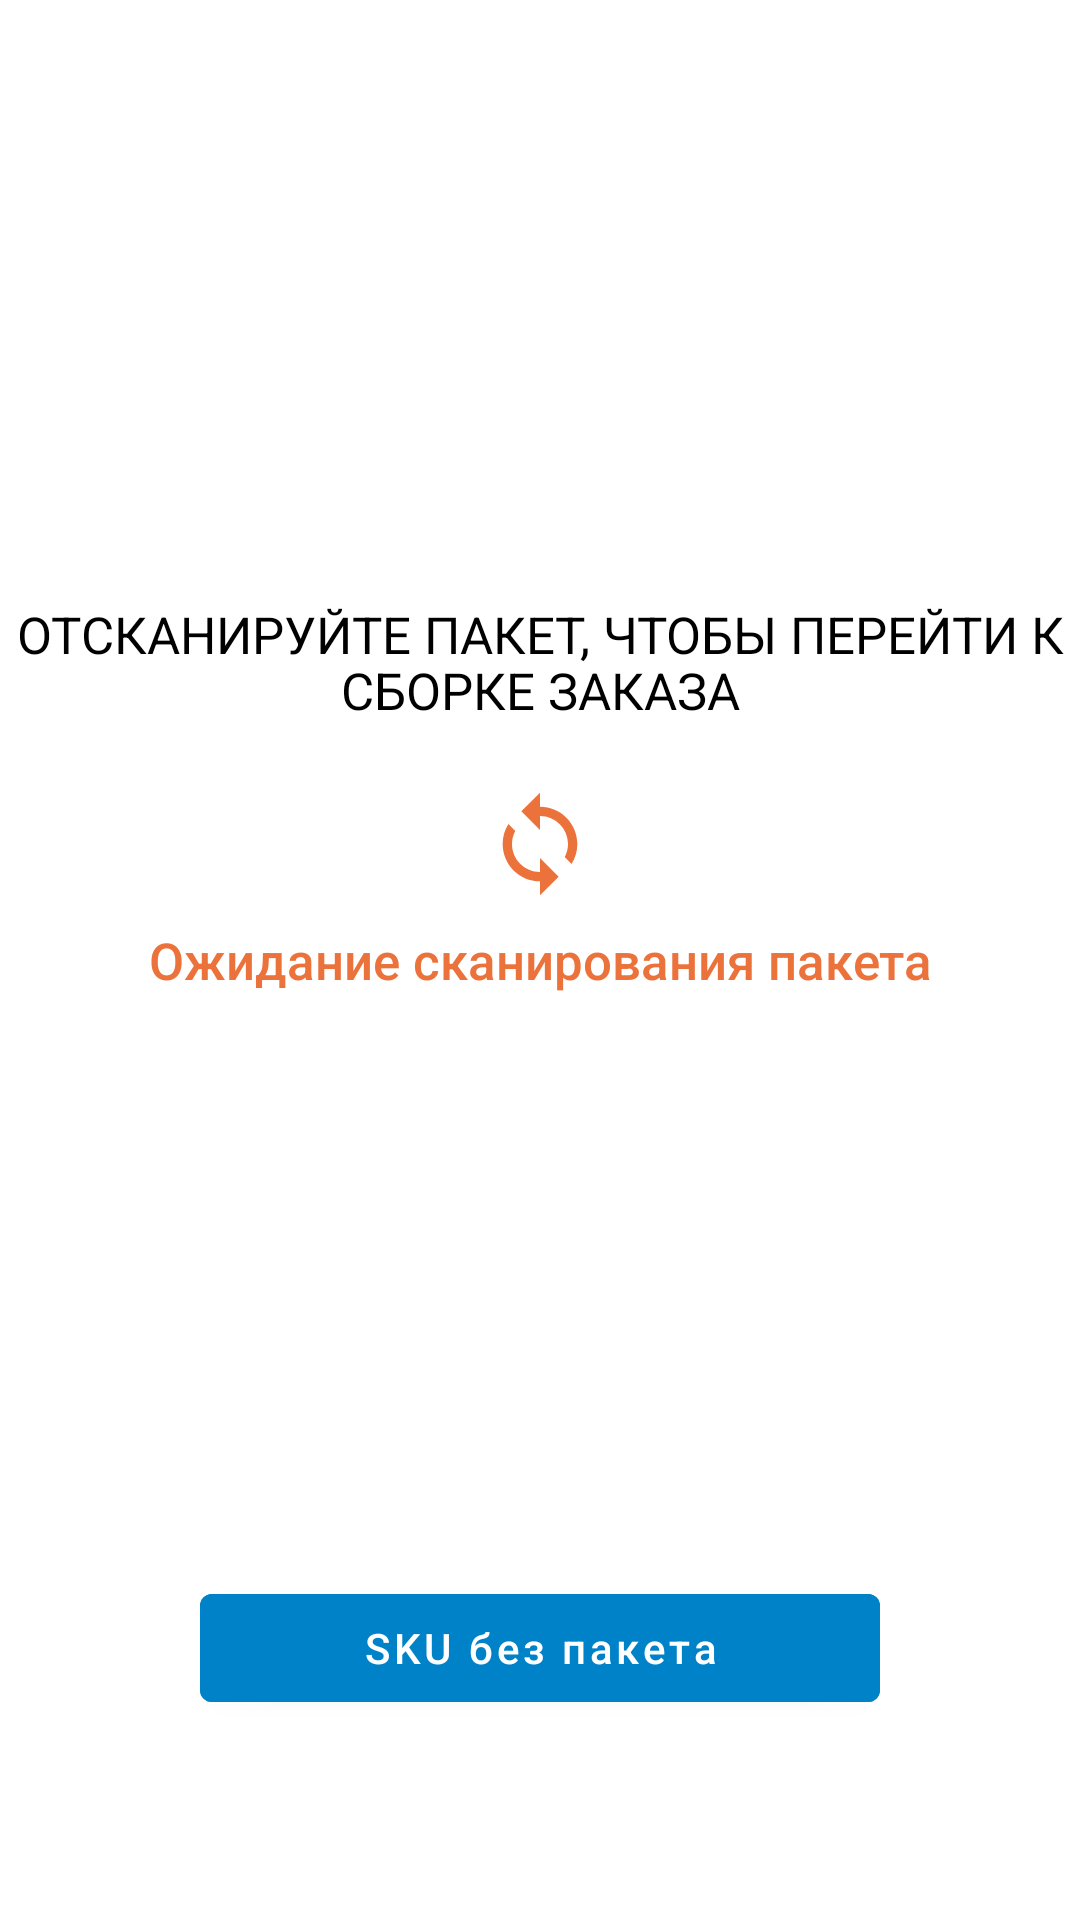

Where to tap for icons on this 1080w x 1920h app screen, as point (x, y):
sync: point (540, 844)
